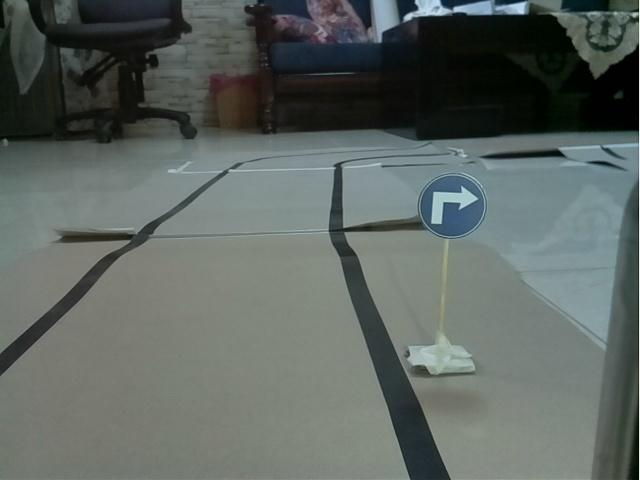turn: (416, 170, 491, 241)
